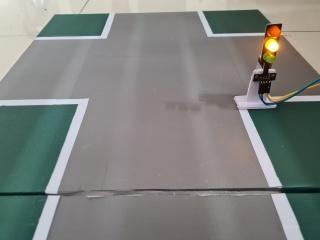yellow: (254, 16, 289, 70)
